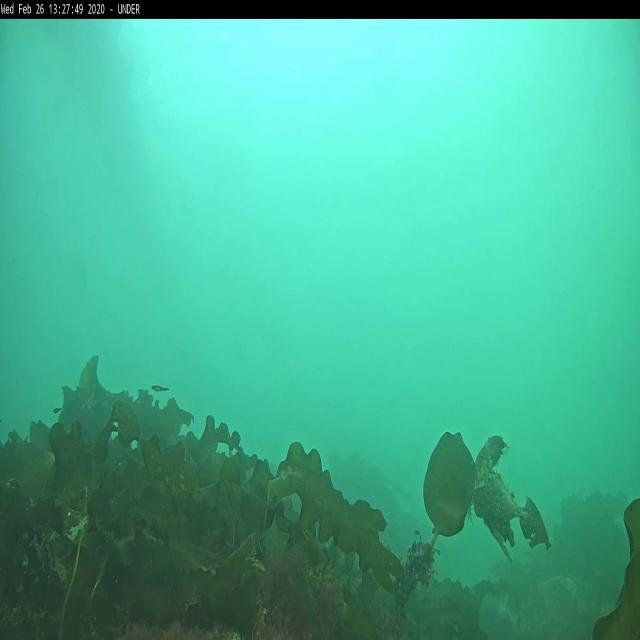fish: (150, 382, 170, 392), (51, 406, 62, 414)
